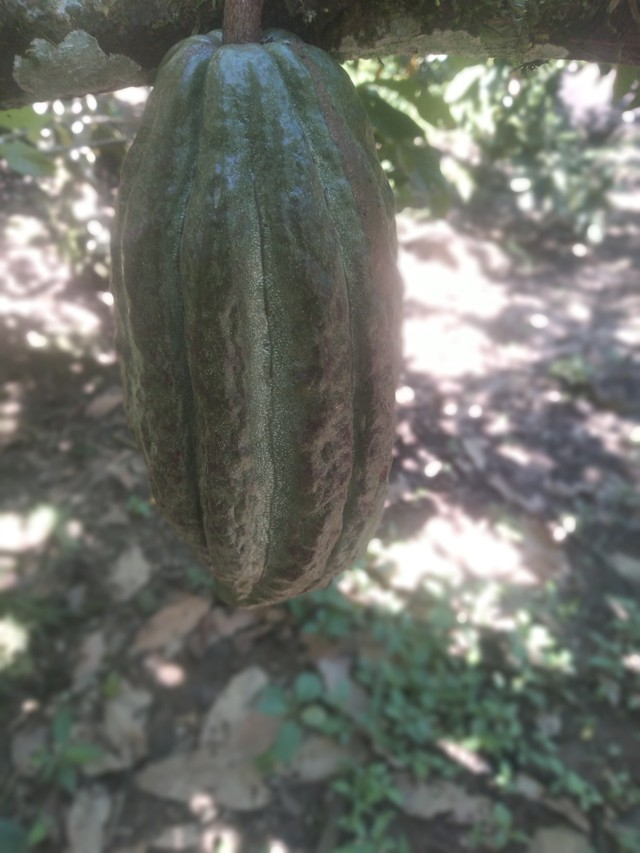Health: (97, 13, 419, 616)
